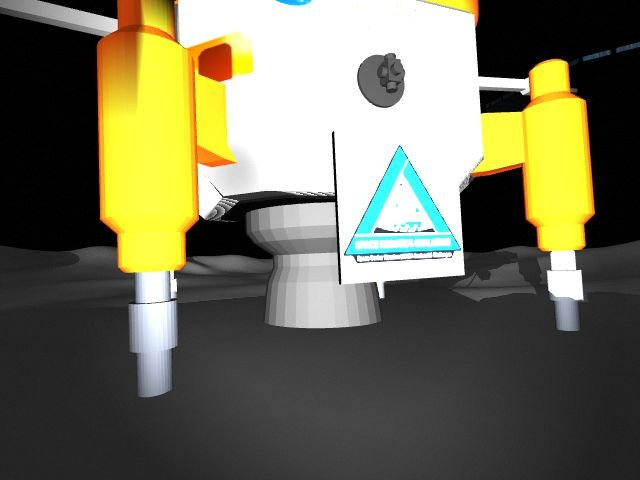basemarker: (342, 143, 463, 265)
